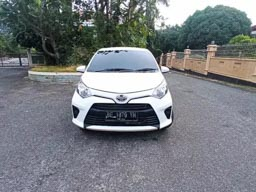plat: (105, 112, 138, 117)
